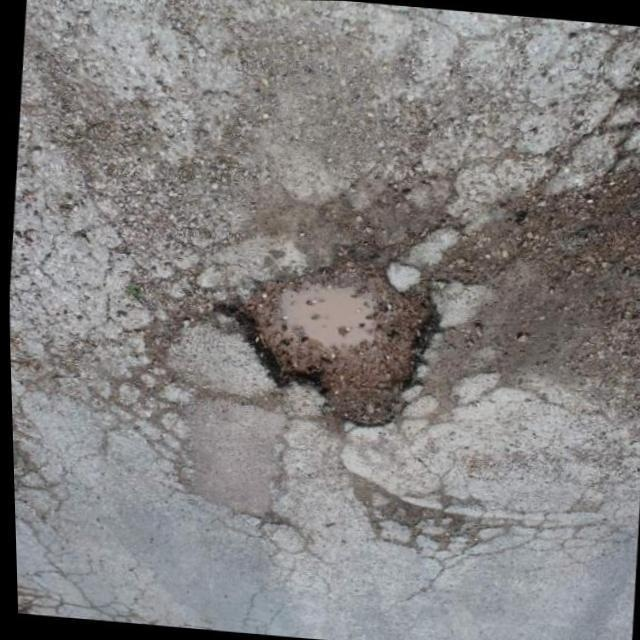pothole: (232, 258, 434, 448)
